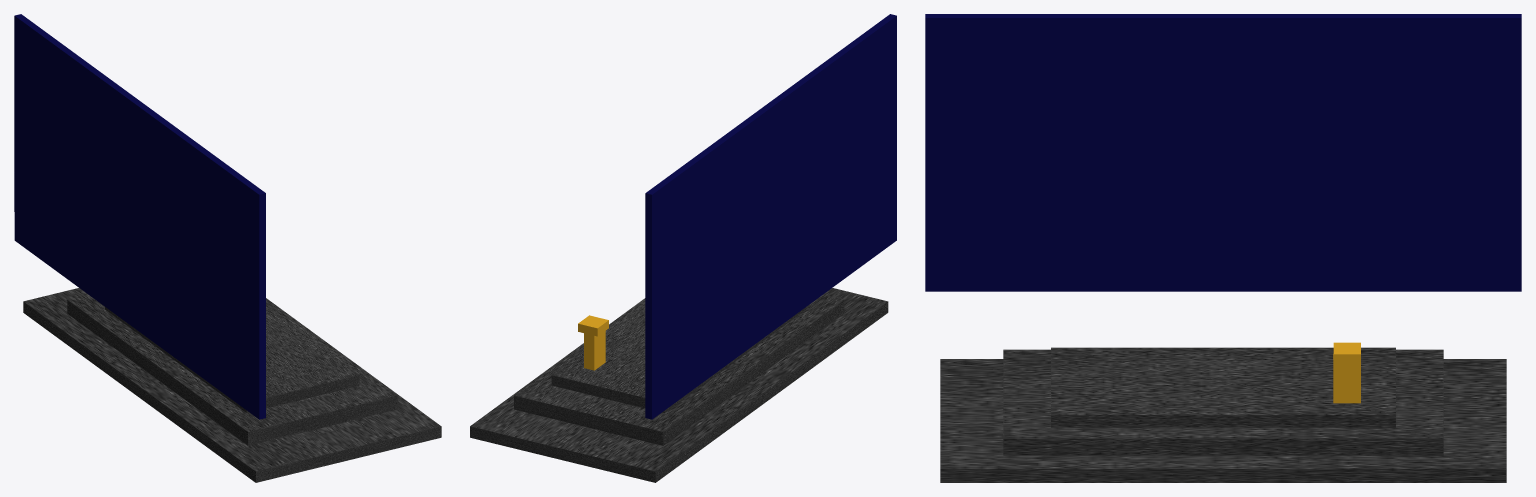
Rendered from podium.fbx.
3 views of the same model, side by side, from view 1: azimuth 30°, elevation 25°; view 2: azimuth 150°, elevation 25°; view 3: azimuth 270°, elevation 25° (orthographic). The views are drawn at different scales.
Visible parts, largest first — view 1: Cube.002, Cube.003, Cube.004, Cube; view 2: Cube.002, Cube.003, Cube.004, Cube, Cube.001; view 3: Cube.002, Cube.003, Cube, Cube.004, Cube.001.
Boxes of the visible parts, x1,y1,x2,y2 form: Cube.002: [14, 14, 265, 419]; Cube.003: [23, 288, 441, 482]; Cube.004: [67, 294, 397, 445]; Cube: [105, 307, 359, 412]; Cube.002: [645, 14, 896, 419]; Cube.003: [470, 288, 888, 482]; Cube.004: [514, 294, 844, 445]; Cube: [551, 307, 806, 412]; Cube.001: [578, 315, 608, 370]; Cube.002: [925, 14, 1521, 291]; Cube.003: [940, 359, 1506, 482]; Cube: [1051, 347, 1395, 427]; Cube.004: [1003, 349, 1443, 455]; Cube.001: [1333, 342, 1360, 403].
Size of the model in its own units: 1923 by 2862 by 4331.
